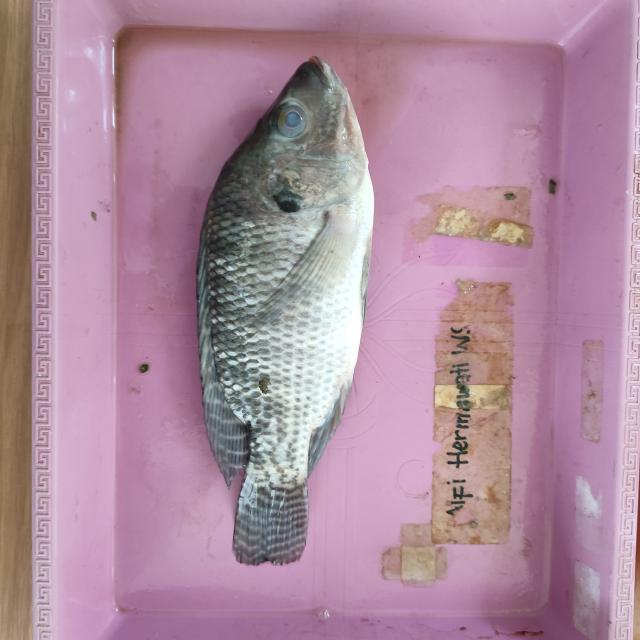Fresh: (200, 171, 385, 580)
